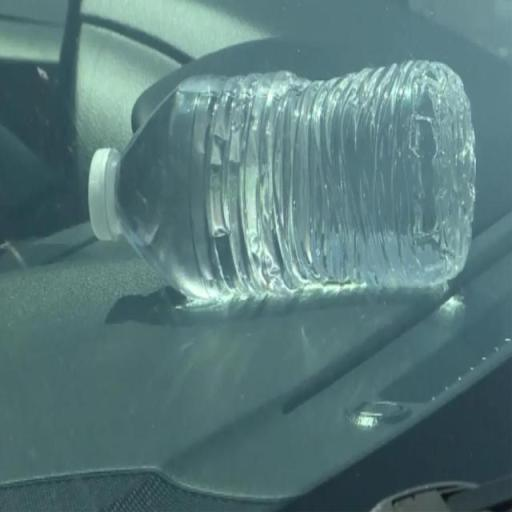plastic: (86, 48, 478, 314)
